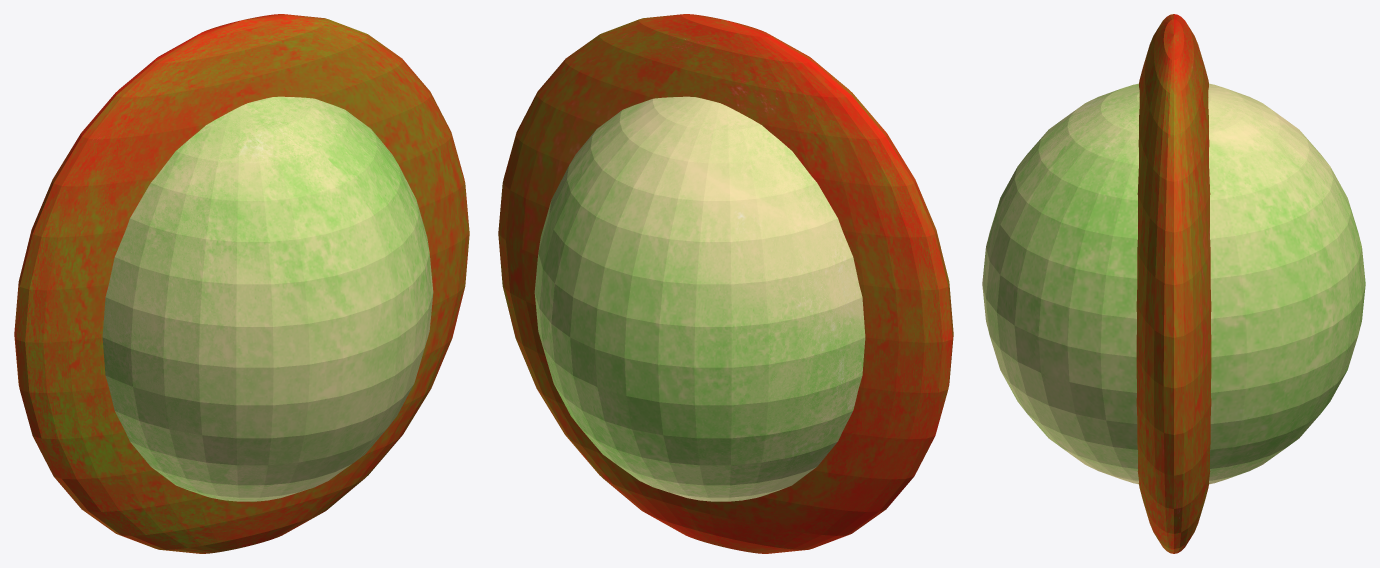
File: anpleBullet.obj
The picture shows the model from 3 angles, left to right: view 1: azimuth 30°, elevation 25°; view 2: azimuth 150°, elevation 25°; view 3: azimuth 270°, elevation 25°; orthographic projection. The views are drawn at different scales.
Parts seen in each view (by area): view 1: 球.001; view 2: 球.001; view 3: 球.001.
Boxes of the visible parts, bbox=[...] form: 球.001: bbox=[14, 14, 469, 553]; 球.001: bbox=[498, 14, 953, 553]; 球.001: bbox=[982, 14, 1365, 553].
Bounding box in the file's own units: 0.5128 × 0.5698 × 0.3977.
Materials: 1 (1 with a texture image).
